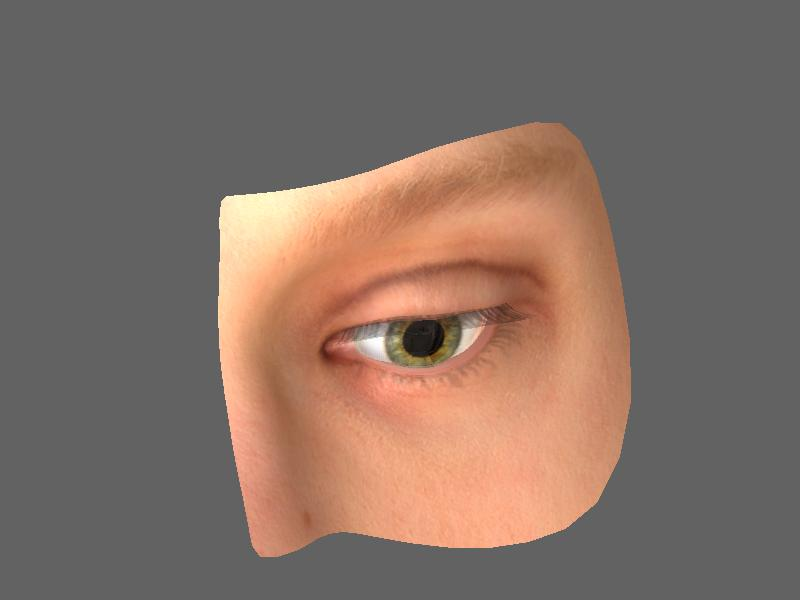iris: (378, 314, 467, 368)
